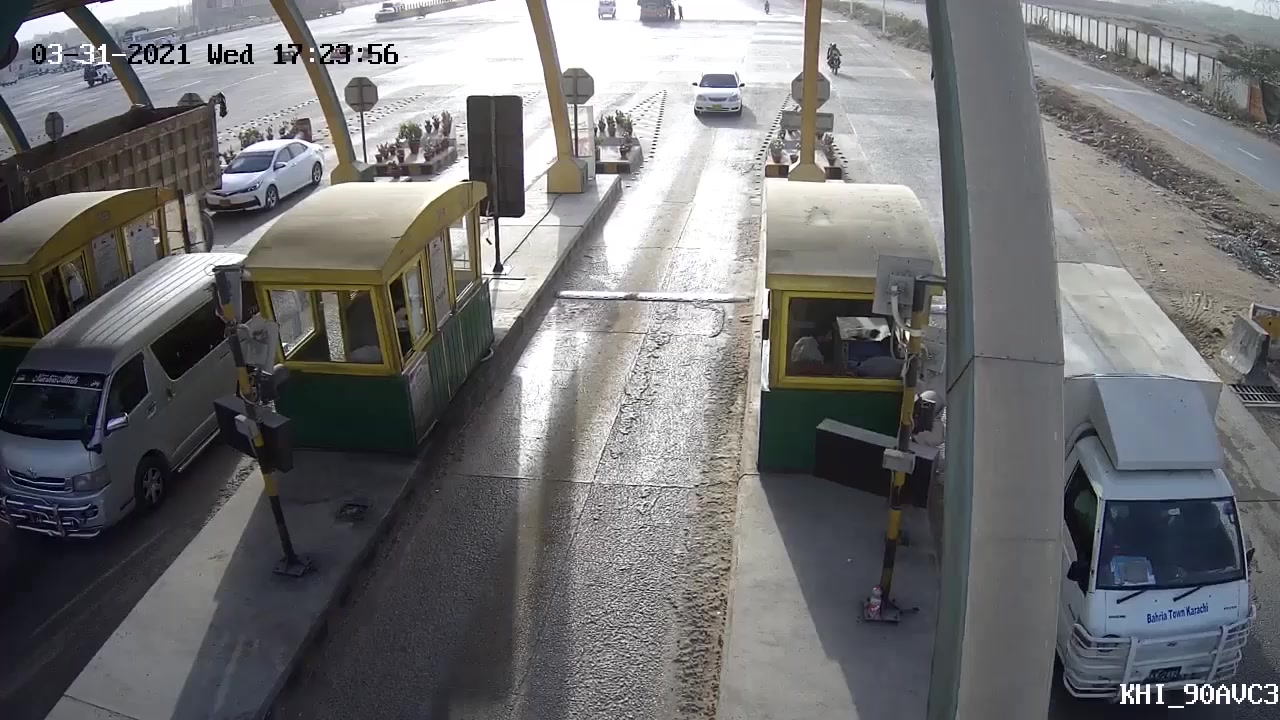F1: (681, 61, 755, 138)
